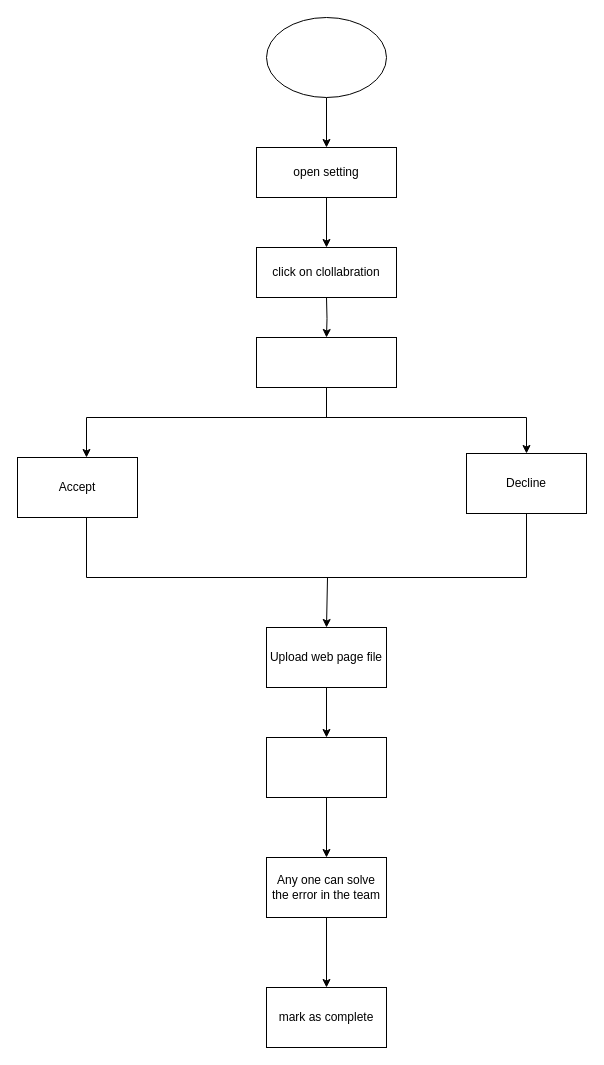
This 604x1065 diagram has some shape labels left out. The shapes that lost their labels are listed below. From the top down, each one's box as (x1, y1, x2, y2) in pixels, then its label:
(266, 16, 386, 98): create a new repository
(256, 336, 396, 388): sent collabration request
(266, 736, 386, 798): Team member raised the error
